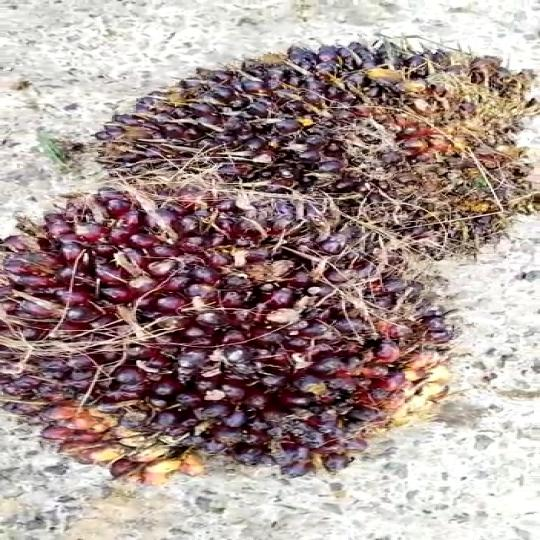kurang masak: (0, 166, 488, 480), (59, 31, 540, 256)
